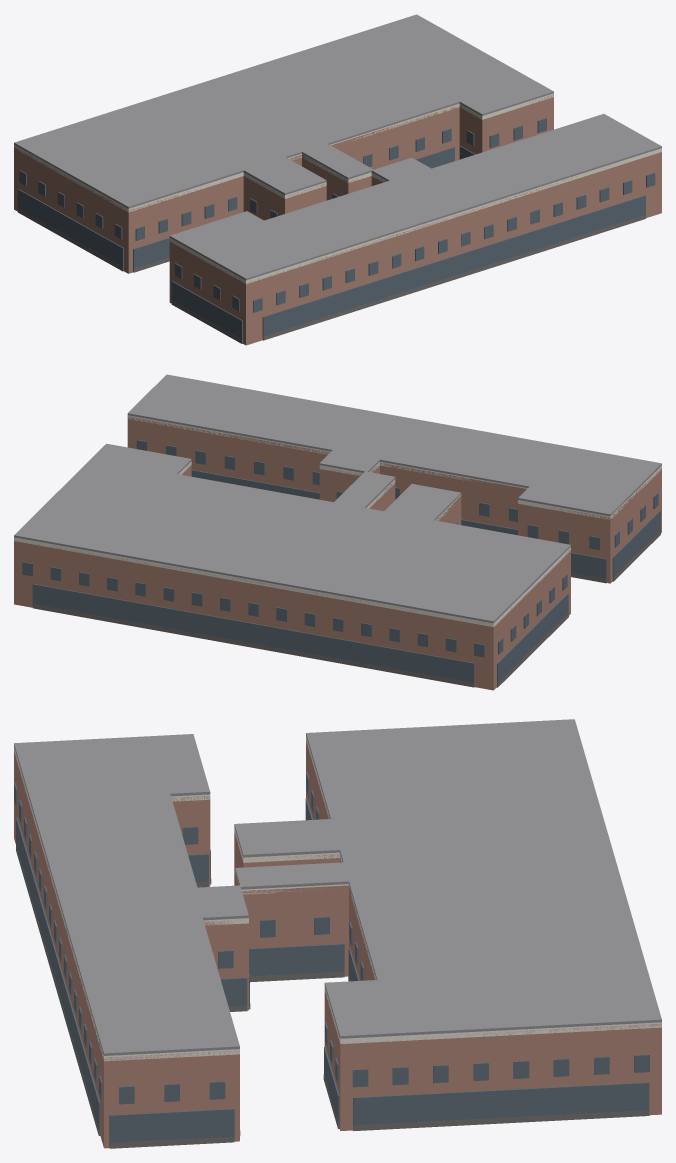
The model's file is s18_gis_247927_820805.glb.
The picture shows the model from 3 angles, top to bottom: view 1: azimuth 30°, elevation 25°; view 2: azimuth 150°, elevation 25°; view 3: azimuth 270°, elevation 25°; orthographic projection. The views are drawn at different scales.
Parts seen in each view (by area): view 1: roofcap, mass, store_13, cornice, store_0, bulk_13, store_12, store_1, bulk_0; view 2: roofcap, mass, store_23, cornice, bulk_23, store_0, store_12, store_15, store_11; view 3: roofcap, mass, store_22, cornice, store_14, store_13, store_18, bulk_22, bulk_14, bulk_13, store_16.
Part boxes in pixels (x1,y1,x2,y2): roofcap: [14, 14, 661, 280]; mass: [14, 94, 661, 345]; store_13: [262, 195, 645, 338]; cornice: [14, 93, 661, 284]; store_0: [17, 189, 123, 269]; bulk_13: [262, 215, 645, 340]; store_12: [171, 281, 242, 339]; store_1: [133, 237, 169, 270]; bulk_0: [17, 208, 123, 271]; roofcap: [14, 374, 661, 623]; mass: [14, 416, 661, 690]; store_23: [32, 584, 474, 685]; cornice: [14, 415, 661, 626]; bulk_23: [32, 604, 474, 687]; store_0: [497, 593, 568, 685]; store_12: [612, 510, 660, 577]; store_15: [191, 470, 319, 499]; store_11: [571, 552, 606, 578]; roofcap: [14, 719, 661, 1055]; mass: [14, 741, 661, 1148]; store_22: [353, 1082, 649, 1125]; cornice: [14, 736, 661, 1061]; store_14: [109, 1108, 234, 1145]; store_13: [16, 817, 100, 1133]; store_18: [249, 943, 344, 976]; bulk_22: [353, 1110, 649, 1131]; bulk_14: [109, 1136, 234, 1148]; bulk_13: [16, 845, 100, 1135]; store_16: [220, 977, 247, 1006].
Size of the model in its own units: 63.12 by 8.35 by 51.63.
